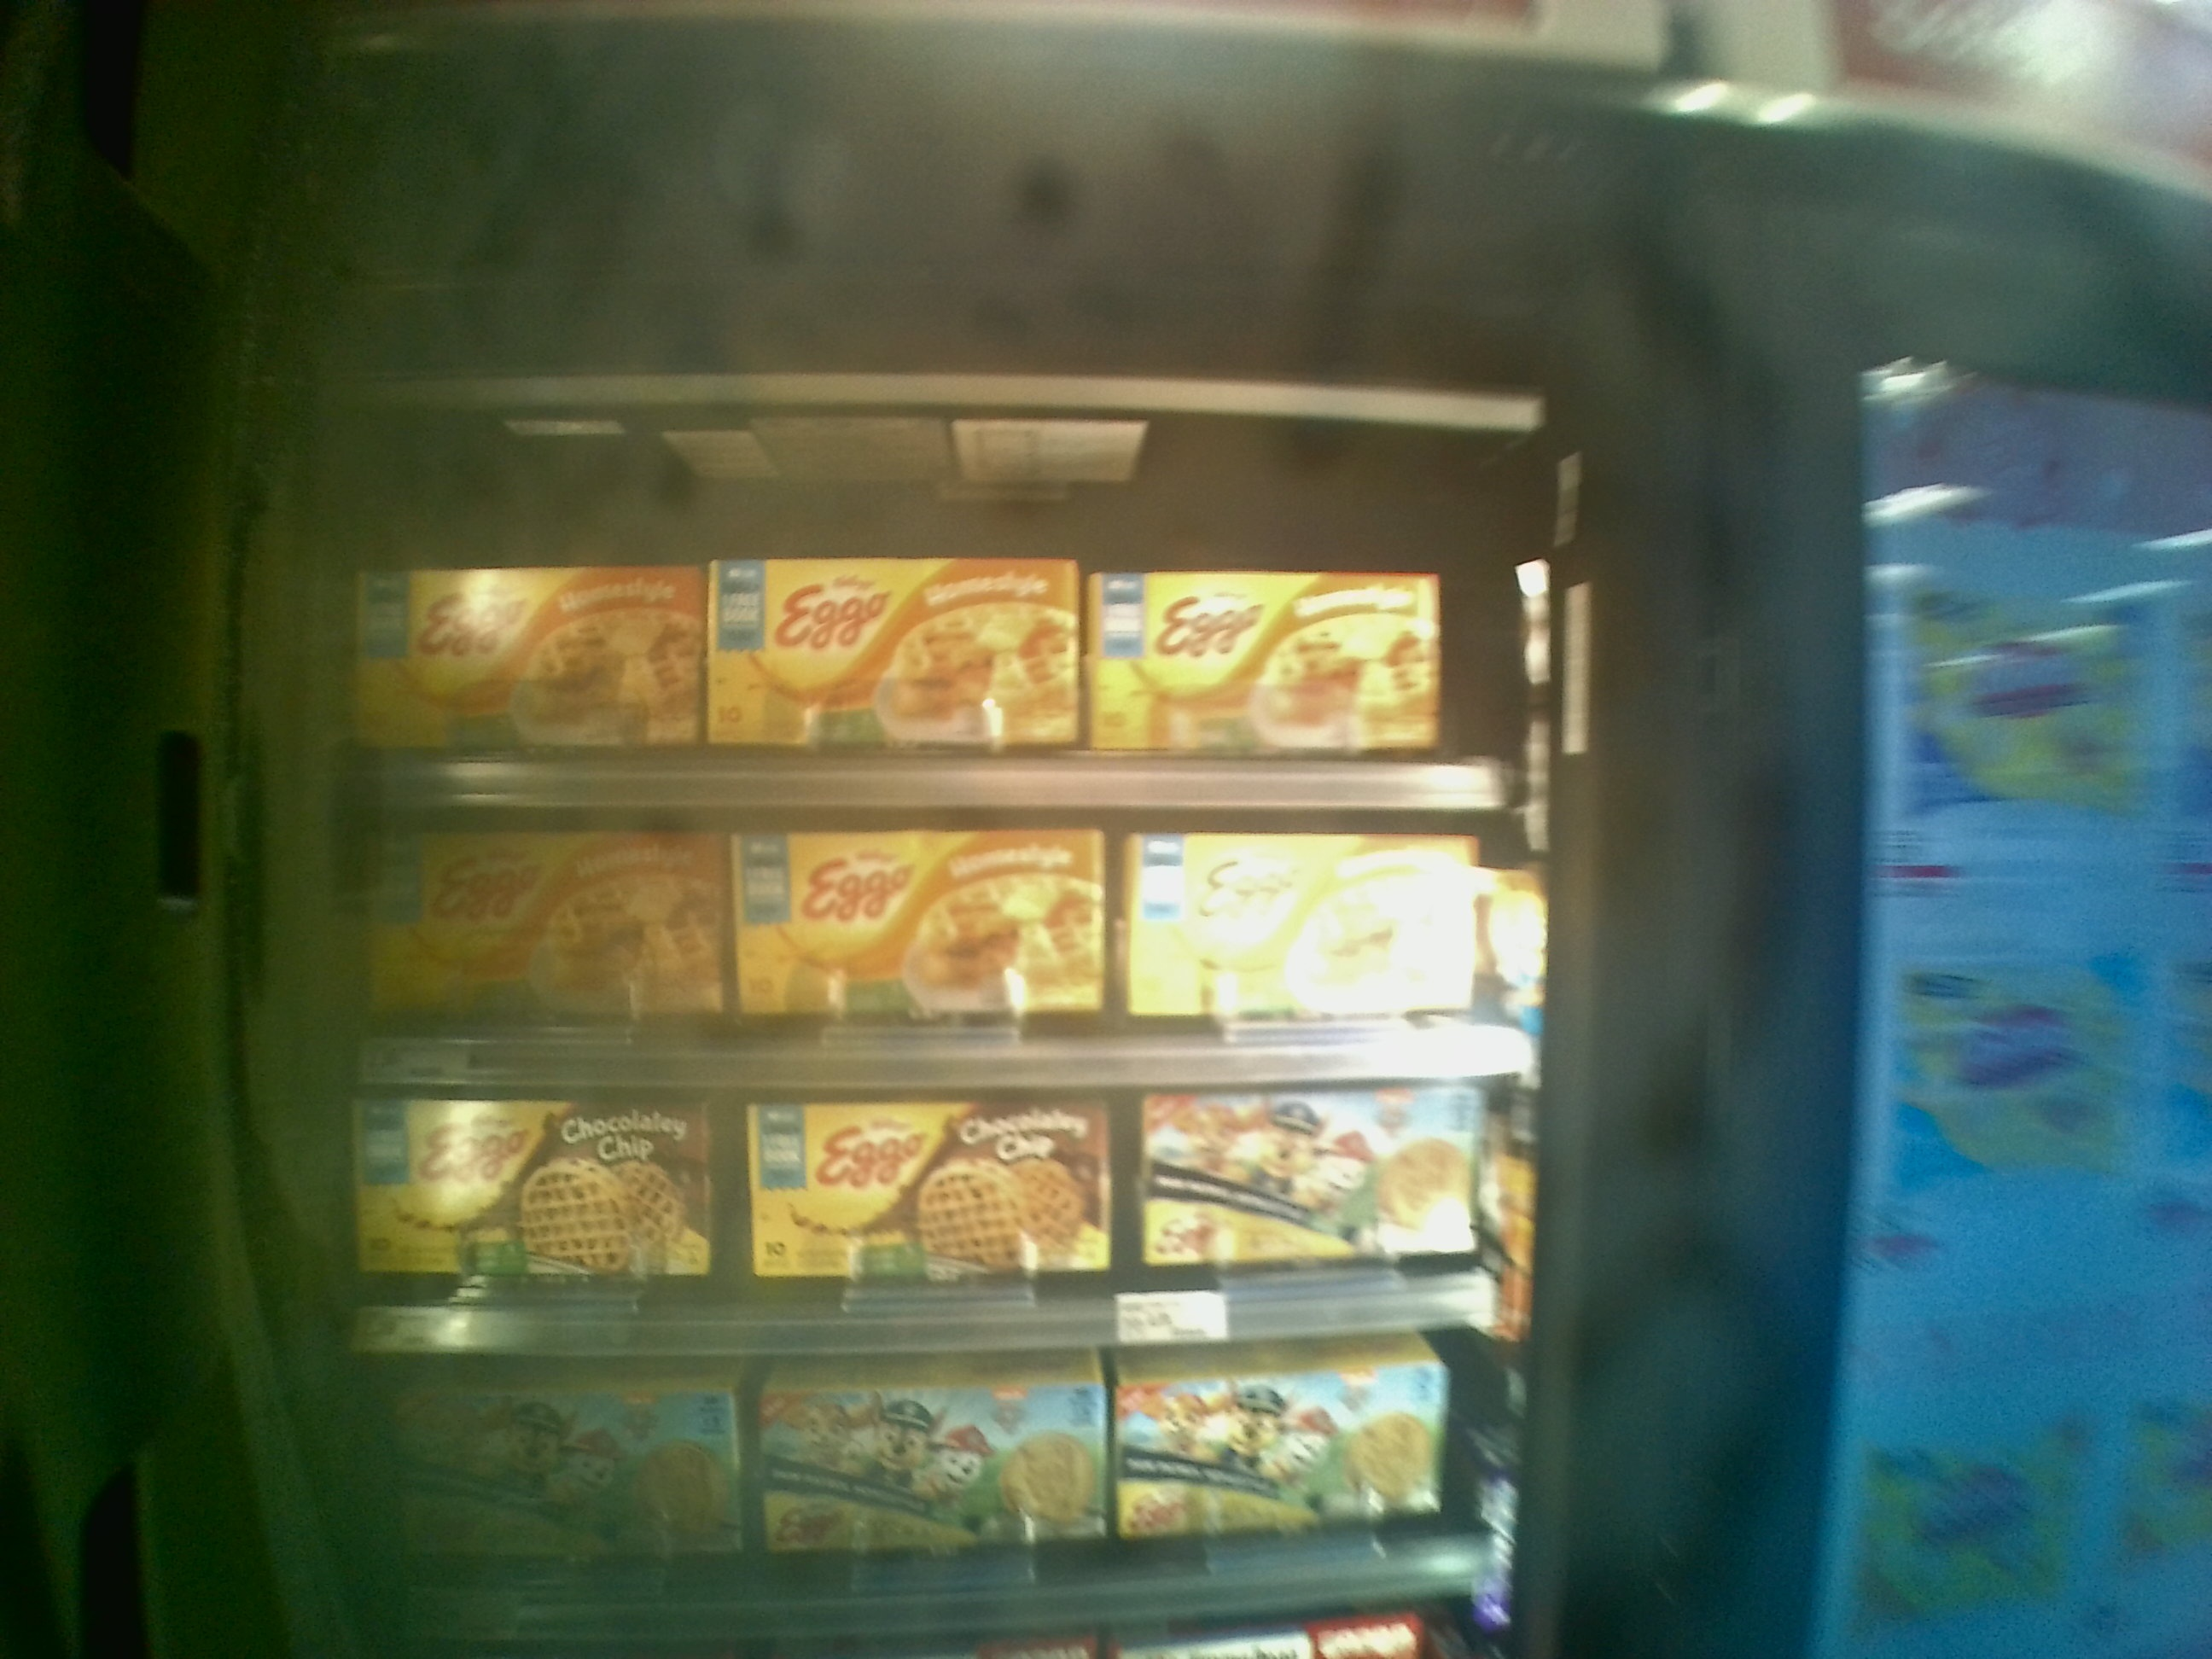shelf: (350, 373, 1508, 823), (341, 1080, 1536, 1354), (350, 828, 1515, 1080)
